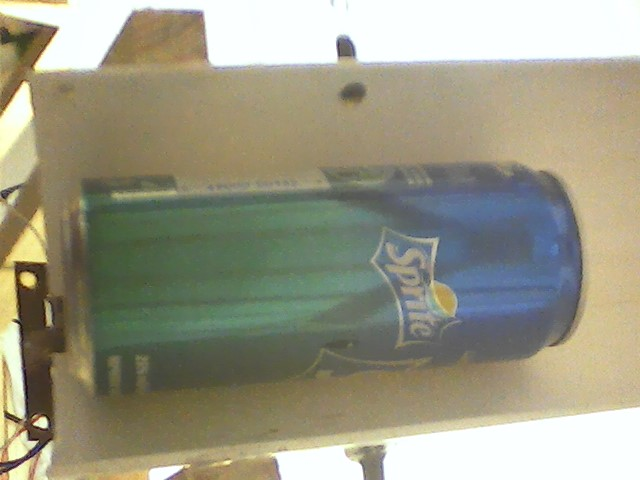lata: (55, 158, 598, 395)
